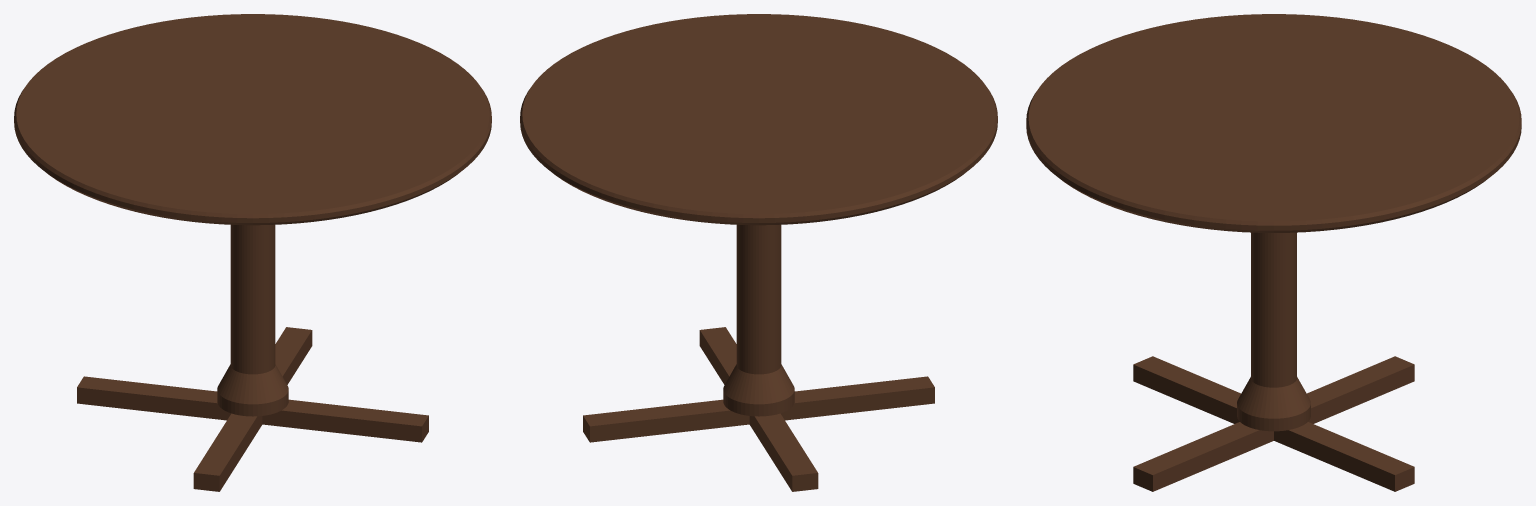
File: 018_round_pedestal_dining_table.glb
The picture shows the model from 3 angles, left to right: view 1: azimuth 30°, elevation 25°; view 2: azimuth 150°, elevation 25°; view 3: azimuth 270°, elevation 25°; orthographic projection. The views are drawn at different scales.
Visible parts, largest first — view 1: 011_top, 008_pedestal_column, 006_pedestal_foot, 002_pedestal_foot, 004_pedestal_foot, 000_pedestal_foot; view 2: 011_top, 008_pedestal_column, 000_pedestal_foot, 004_pedestal_foot, 002_pedestal_foot, 006_pedestal_foot; view 3: 011_top, 008_pedestal_column, 000_pedestal_foot, 006_pedestal_foot, 002_pedestal_foot, 004_pedestal_foot.
Part boxes in pixels (x1,y1,x2,y2): 011_top: (14,14,491,225); 008_pedestal_column: (217,224,288,416); 006_pedestal_foot: (262,399,428,442); 002_pedestal_foot: (77,376,231,420); 004_pedestal_foot: (193,413,262,491); 000_pedestal_foot: (275,327,312,384); 011_top: (520,14,997,225); 008_pedestal_column: (723,224,794,416); 000_pedestal_foot: (583,399,749,442); 004_pedestal_foot: (780,376,934,420); 002_pedestal_foot: (749,413,818,491); 006_pedestal_foot: (699,327,736,384); 011_top: (1026,14,1521,232); 008_pedestal_column: (1237,232,1310,431); 000_pedestal_foot: (1274,422,1414,491); 006_pedestal_foot: (1133,422,1273,491); 002_pedestal_foot: (1307,356,1414,423); 004_pedestal_foot: (1133,356,1240,423).
Size of the model in its own units: 1.07 by 0.75 by 1.07.
